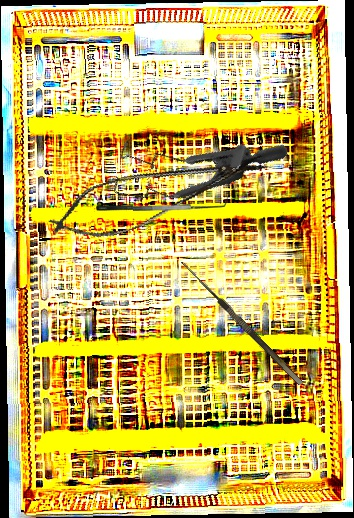Hook Surgical: (173, 258, 304, 393)
Micro Scissor: (41, 133, 274, 254)
Spatula Surgical: (95, 193, 229, 215)
Speculum: (94, 66, 290, 255)
